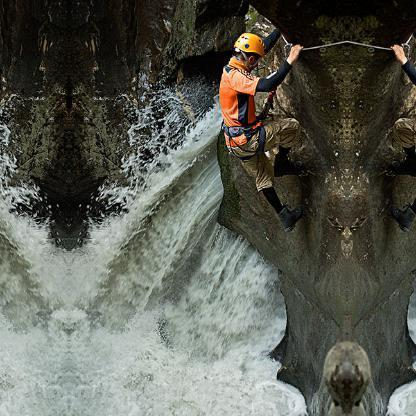helmet: (226, 29, 268, 60)
